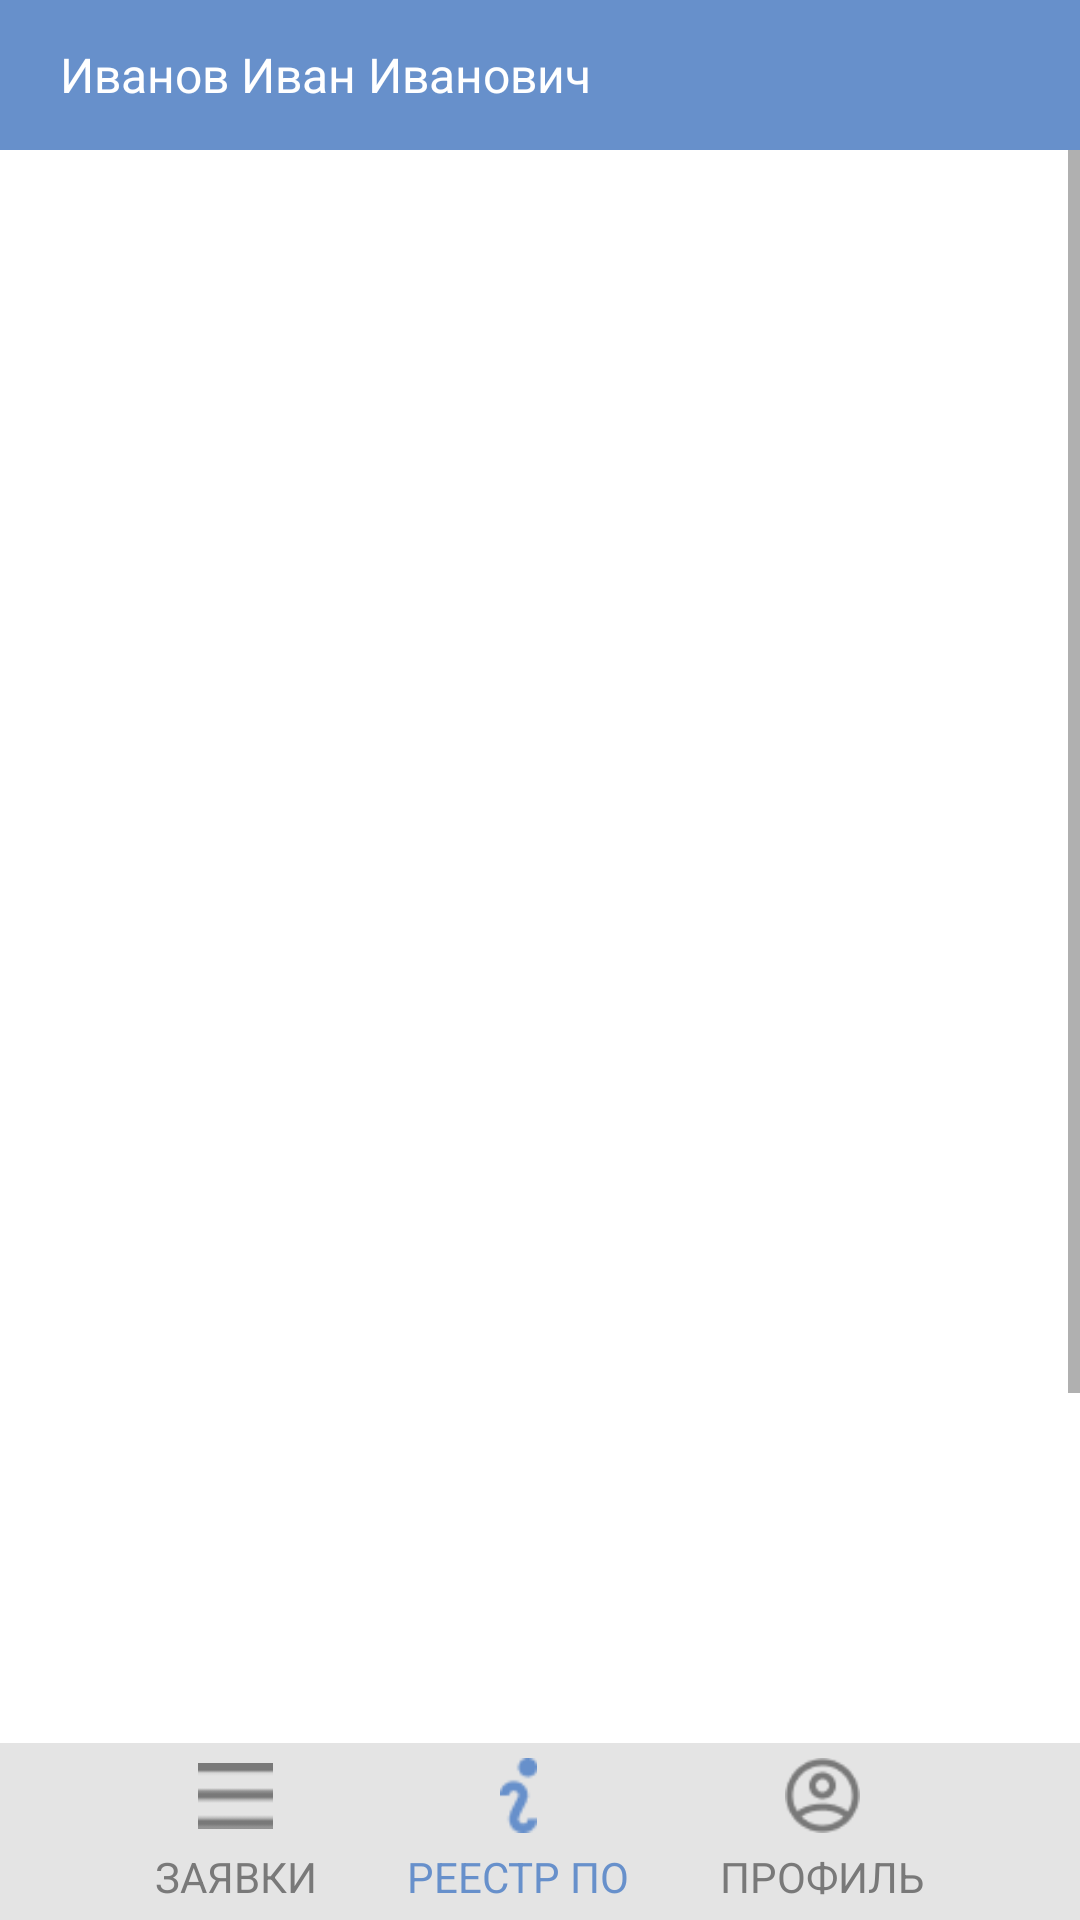

Locate icon controls on the screen. Image size 1080*1920, boxes as (x1, y1, x2, y2).
info: (500, 1758, 537, 1833)
menu: (198, 1763, 273, 1829)
